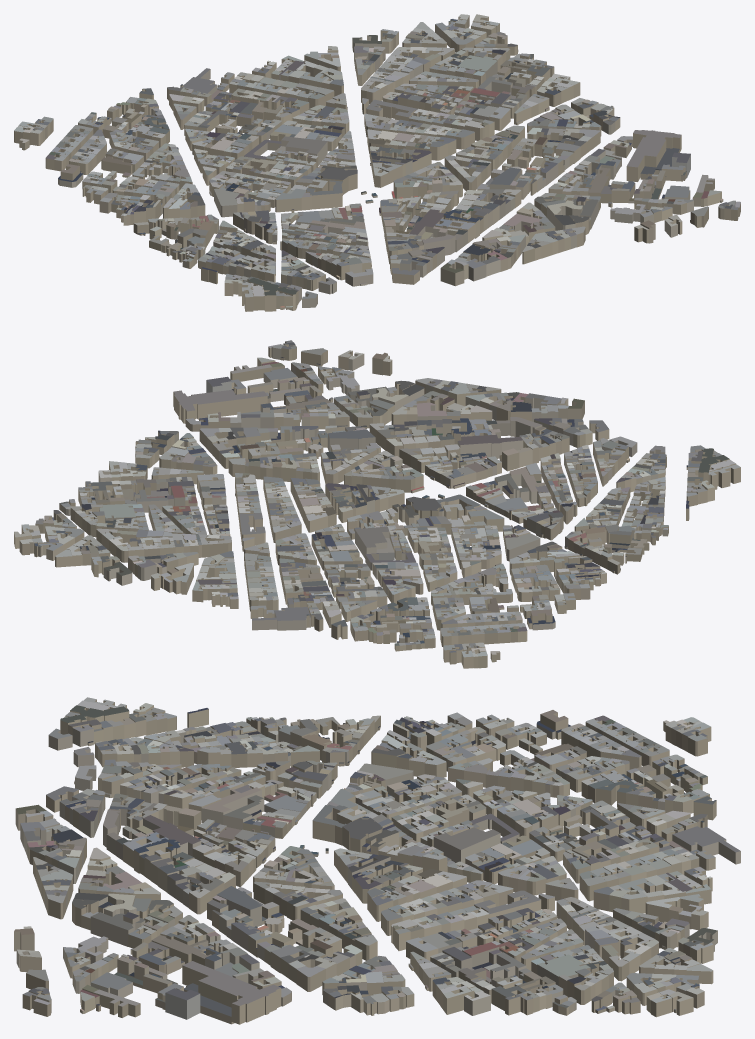
3 views of the same model, one above another, from view 1: azimuth 30°, elevation 25°; view 2: azimuth 150°, elevation 25°; view 3: azimuth 270°, elevation 25° (orthographic). The views are drawn at different scales.
Visible parts, largest first — view 1: tuile; view 2: tuile; view 3: tuile.
Boxes of the visible parts, left/top/right/bottom form: tuile: left=14, top=14, right=740, bottom=311; tuile: left=14, top=340, right=740, bottom=668; tuile: left=14, top=697, right=740, bottom=1024.
Size of the model in its own units: 1065 by 55.14 by 1068.
